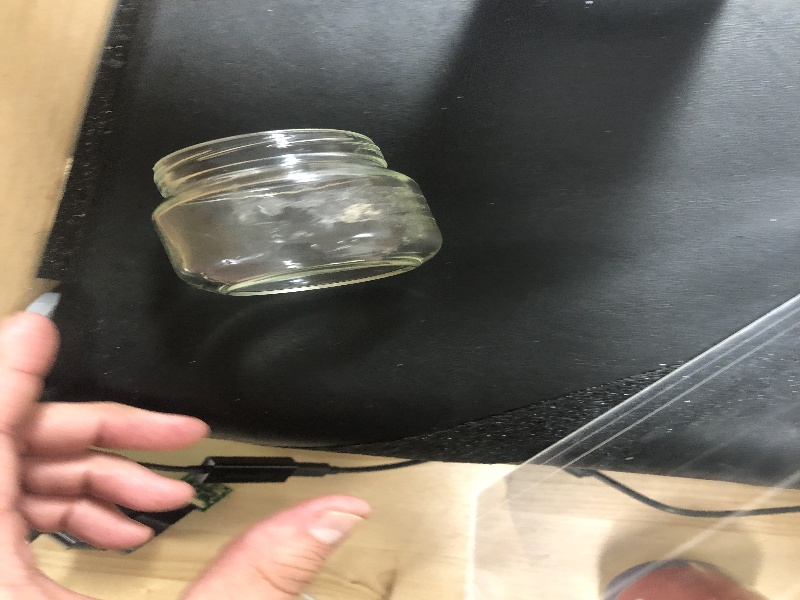glass: (139, 127, 454, 299)
